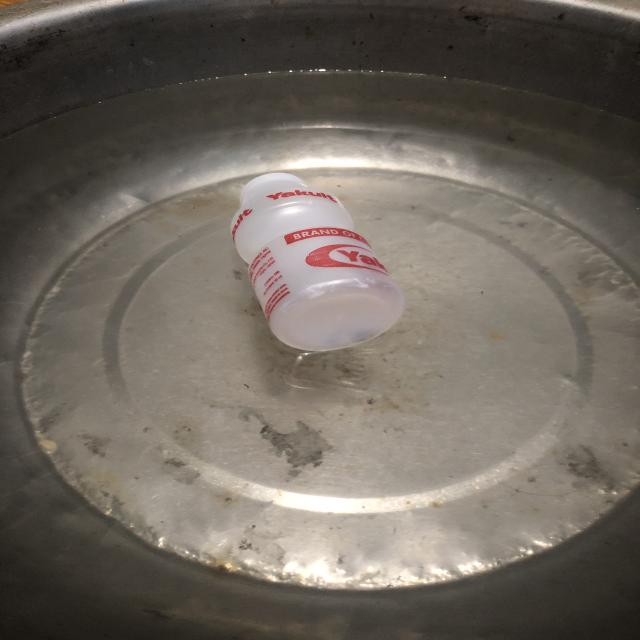Plastic Bottle: (231, 173, 404, 352)
